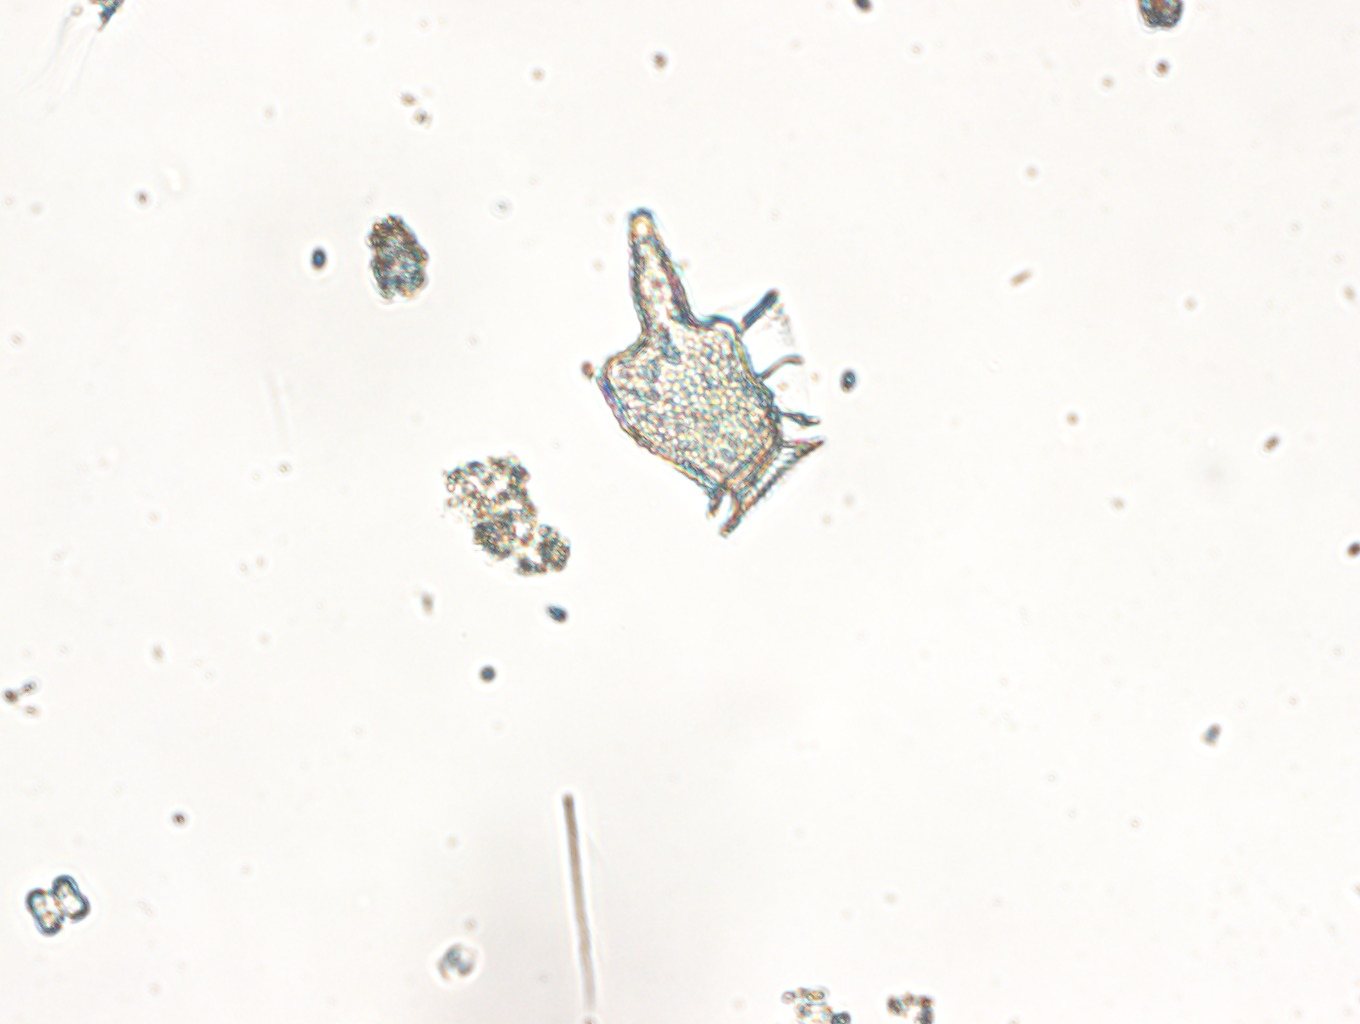dinophysis caudata: (582, 208, 825, 529)
